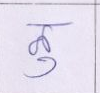u_matra: (26, 57, 59, 79)
